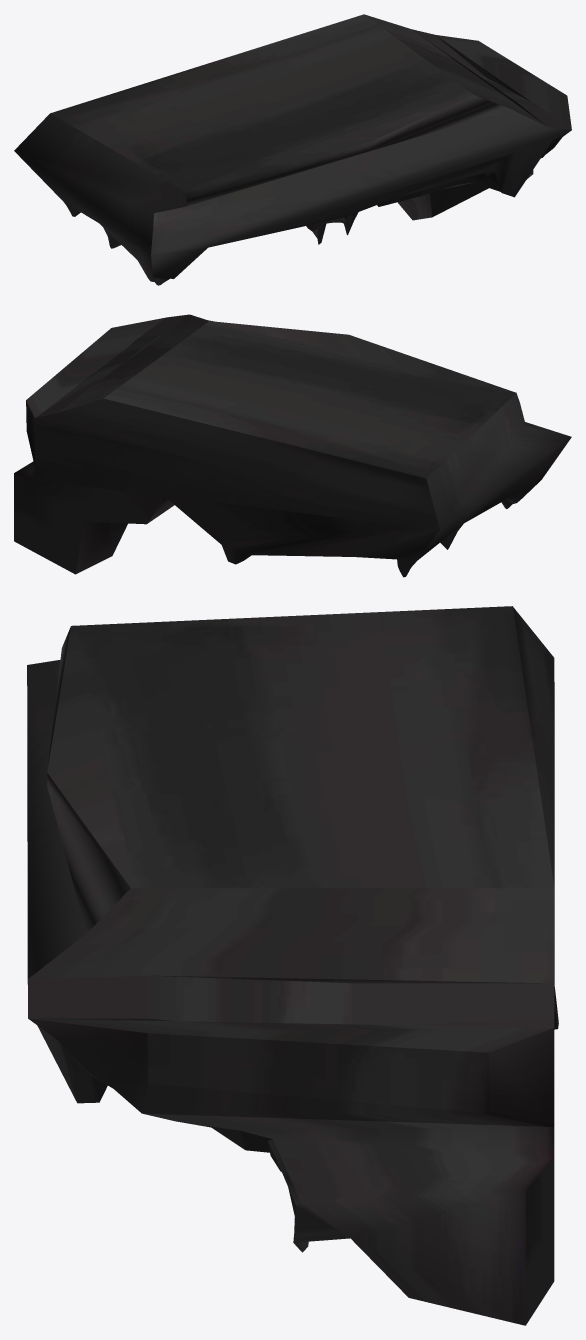
The model's file is CavetopScene1.fbx.
3 renders of one model, top to bottom at view 1: azimuth 30°, elevation 25°; view 2: azimuth 150°, elevation 25°; view 3: azimuth 270°, elevation 25°, orthographic. The views are drawn at different scales.
Visible parts, largest first — view 1: pasted__pCube8; view 2: pasted__pCube8; view 3: pasted__pCube8.
Boxes of the visible parts, box(x1,y1,x2,y2) form: pasted__pCube8: box(14, 14, 571, 285); pasted__pCube8: box(14, 314, 571, 577); pasted__pCube8: box(27, 606, 558, 1325).
Size of the model in its own units: 39.06 by 15.71 by 20.71.
1 material, 1 textured.
